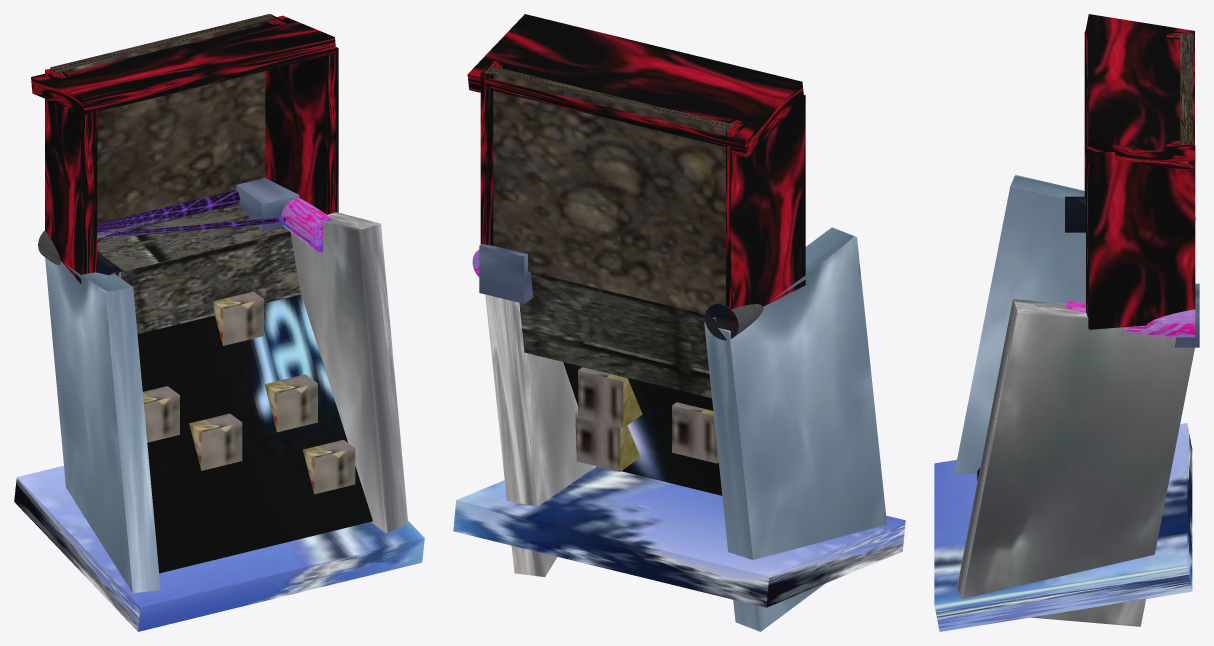
Rendered from npcwavesv2.glb.
The picture shows the model from 3 angles, left to right: view 1: azimuth 30°, elevation 25°; view 2: azimuth 150°, elevation 25°; view 3: azimuth 270°, elevation 25°; orthographic projection. The views are drawn at different scales.
Parts seen in each view (by area): view 1: Cube.1599, Cube.1600, Cube.1594, Cube.1602, Cube.1601, Cube.1595, Cube.1598, Cube.1596, Cube.1597, Cube.1606, Cube.1607, Cube.1603 (+7 smaller); view 2: Cube.1600, Cube.1594, Cube.1602, Cube.1598, Cube.1595, Cube.1601, Cube.1597, Cube.1599, Cube.1606, Cube.1608, Cube.1603, Cube.1596 (+2 smaller); view 3: Cube.1601, Cube.1596, Cube.1602, Cube.1600, Cube.1598, Cube.1594, Cylinder.084, Cylinder.085, Cube.1608, Cube.1597.
Part boxes in pixels (<box>): Cube.1599: <box>137,294,372,573</box>; Cube.1600: <box>45,257,160,593</box>; Cube.1594: <box>50,14,275,223</box>; Cube.1602: <box>14,465,424,631</box>; Cube.1601: <box>290,212,408,532</box>; Cube.1595: <box>97,204,300,333</box>; Cube.1598: <box>31,15,336,114</box>; Cube.1596: <box>265,14,338,214</box>; Cube.1597: <box>45,69,97,283</box>; Cube.1606: <box>264,374,317,432</box>; Cube.1607: <box>189,413,242,470</box>; Cube.1603: <box>303,439,355,494</box>; Cube.1600: <box>704,227,886,631</box>; Cube.1594: <box>485,66,732,314</box>; Cube.1602: <box>453,466,905,607</box>; Cube.1598: <box>467,14,803,157</box>; Cube.1595: <box>519,272,711,397</box>; Cube.1601: <box>485,294,596,576</box>; Cube.1597: <box>726,94,805,322</box>; Cube.1599: <box>563,362,722,495</box>; Cube.1606: <box>578,367,642,428</box>; Cube.1608: <box>479,244,533,303</box>; Cube.1603: <box>575,412,640,471</box>; Cube.1596: <box>480,60,507,245</box>; Cube.1601: <box>957,299,1194,626</box>; Cube.1596: <box>1086,139,1195,329</box>; Cube.1602: <box>934,423,1192,631</box>; Cube.1600: <box>954,174,1195,474</box>; Cube.1598: <box>1085,14,1194,171</box>; Cube.1594: <box>1180,34,1193,144</box>; Cylinder.084: <box>1066,301,1195,337</box>; Cylinder.085: <box>1065,196,1085,232</box>; Cube.1608: <box>1174,283,1199,347</box>; Cube.1597: <box>1084,29,1193,196</box>.
Bounding box in the file's own units: 347 × 566 × 275.
13 materials, 13 textured.
